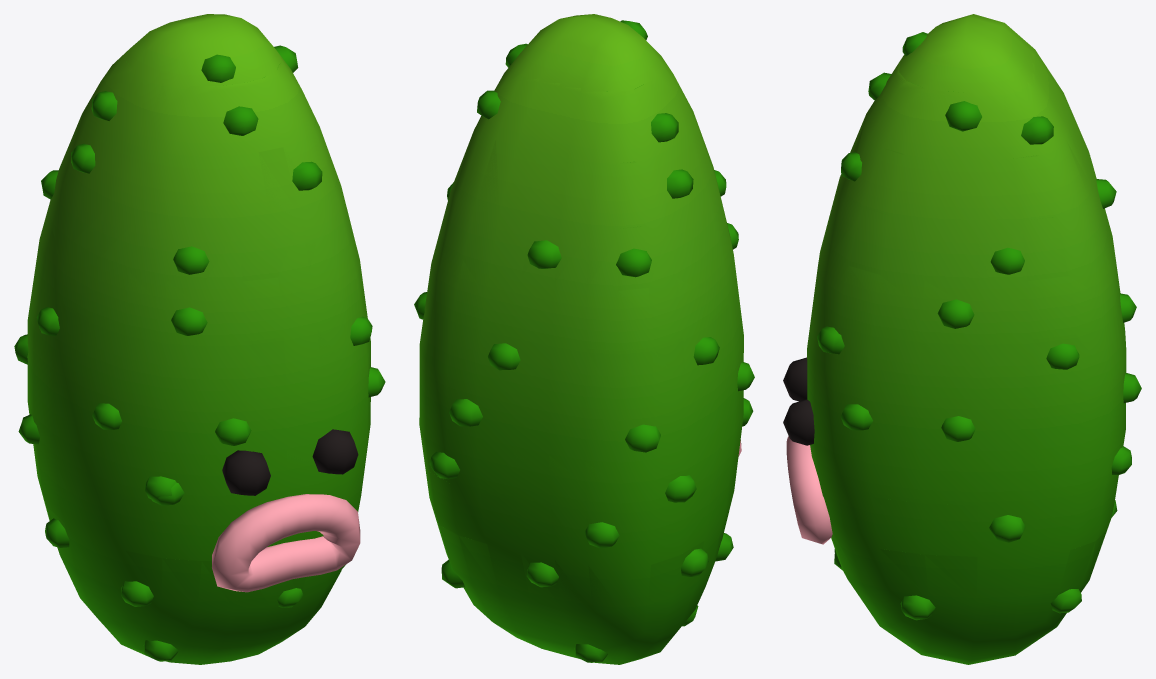
The model's file is ENEMY_Pickle.fbx.
3 renders of one model, left to right at view 1: azimuth 30°, elevation 25°; view 2: azimuth 150°, elevation 25°; view 3: azimuth 270°, elevation 25°, orthographic. The views are drawn at different scales.
Visible parts, largest first — view 1: ENEMY_Pickle_02, ENEMY_Pickle_03, ENEMY_Pickle_01, Pickle_Mouth, ENEMY_Pickle_04, ENEMY_Pickle_10, ENEMY_Pickle_06, Pickle_SphereEyes, ENEMY_Pickle_09, ENEMY_Pickle_05; view 2: ENEMY_Pickle_02, ENEMY_Pickle_03, ENEMY_Pickle_01, ENEMY_Pickle_04, ENEMY_Pickle_06, ENEMY_Pickle_10, ENEMY_Pickle_09, ENEMY_Pickle_05, ENEMY_Pickle_08; view 3: ENEMY_Pickle_02, ENEMY_Pickle_01, ENEMY_Pickle_03, ENEMY_Pickle_04, ENEMY_Pickle_06, ENEMY_Pickle_09, ENEMY_Pickle_10, ENEMY_Pickle_05, Pickle_Mouth, Pickle_SphereEyes.
Part boxes in pixels (x1=…): ENEMY_Pickle_02: x1=14, y1=45, x2=385, y2=664; ENEMY_Pickle_03: x1=27, y1=119, x2=370, y2=478; ENEMY_Pickle_01: x1=27, y1=14, x2=350, y2=525; Pickle_Mouth: x1=212, y1=494, x2=360, y2=592; ENEMY_Pickle_04: x1=33, y1=179, x2=337, y2=467; ENEMY_Pickle_10: x1=42, y1=493, x2=341, y2=609; ENEMY_Pickle_06: x1=28, y1=268, x2=370, y2=395; Pickle_SphereEyes: x1=222, y1=429, x2=358, y2=495; ENEMY_Pickle_09: x1=33, y1=447, x2=362, y2=551; ENEMY_Pickle_05: x1=45, y1=229, x2=359, y2=311; ENEMY_Pickle_02: x1=414, y1=43, x2=754, y2=664; ENEMY_Pickle_03: x1=447, y1=140, x2=743, y2=486; ENEMY_Pickle_01: x1=420, y1=14, x2=753, y2=555; ENEMY_Pickle_04: x1=419, y1=226, x2=743, y2=472; ENEMY_Pickle_06: x1=419, y1=297, x2=734, y2=405; ENEMY_Pickle_10: x1=434, y1=513, x2=722, y2=611; ENEMY_Pickle_09: x1=430, y1=469, x2=733, y2=556; ENEMY_Pickle_05: x1=431, y1=236, x2=705, y2=319; ENEMY_Pickle_08: x1=513, y1=451, x2=677, y2=486; ENEMY_Pickle_02: x1=807, y1=48, x2=1141, y2=664; ENEMY_Pickle_01: x1=807, y1=14, x2=1122, y2=545; ENEMY_Pickle_03: x1=807, y1=118, x2=1126, y2=475; ENEMY_Pickle_04: x1=879, y1=212, x2=1126, y2=475; ENEMY_Pickle_06: x1=807, y1=297, x2=1125, y2=394; ENEMY_Pickle_09: x1=830, y1=476, x2=1117, y2=546; ENEMY_Pickle_10: x1=831, y1=530, x2=1106, y2=602; ENEMY_Pickle_05: x1=844, y1=256, x2=1114, y2=311; Pickle_Mouth: x1=786, y1=436, x2=832, y2=544; Pickle_SphereEyes: x1=783, y1=357, x2=814, y2=445.
Bounding box in the file's own units: 1.86 × 3.87 × 2.03.
